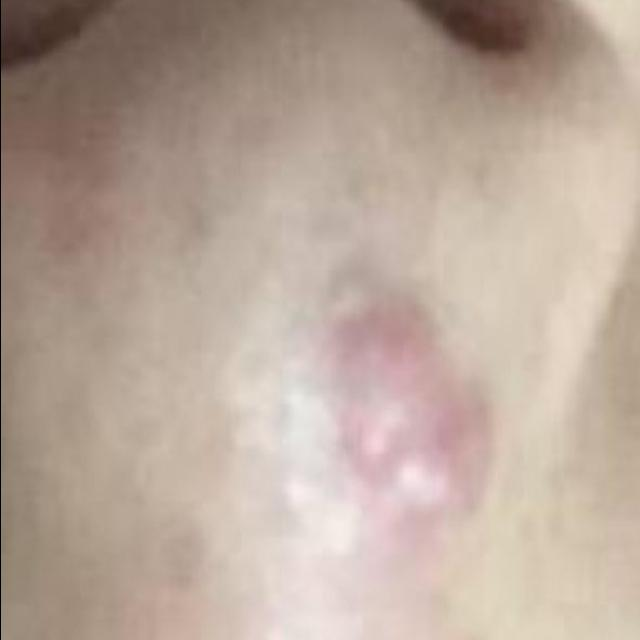nodule: (309, 270, 531, 580)
